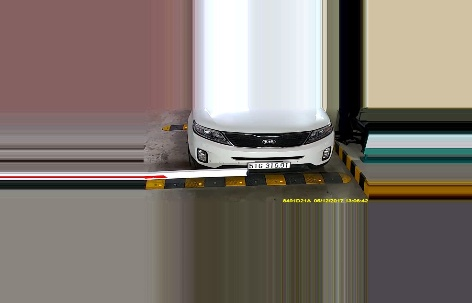plate: (243, 158, 290, 173)
